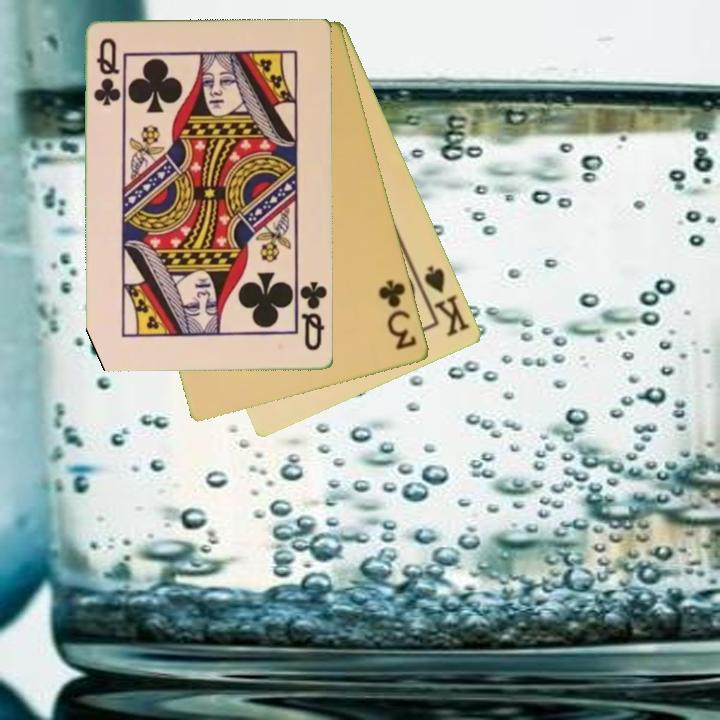3c: (375, 276, 420, 353)
Ks: (421, 262, 474, 340)
Qc: (295, 276, 330, 354), (91, 35, 123, 109)
